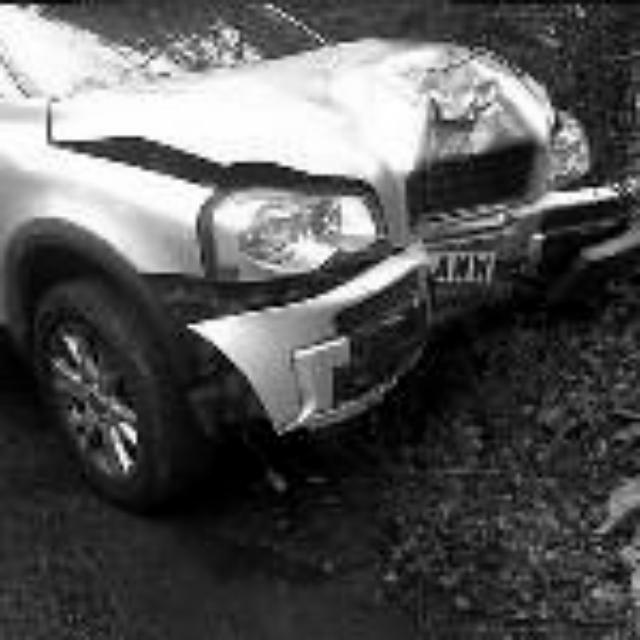bonnet-dent: (108, 61, 551, 184)
front-bumper-dent: (226, 175, 588, 341)
